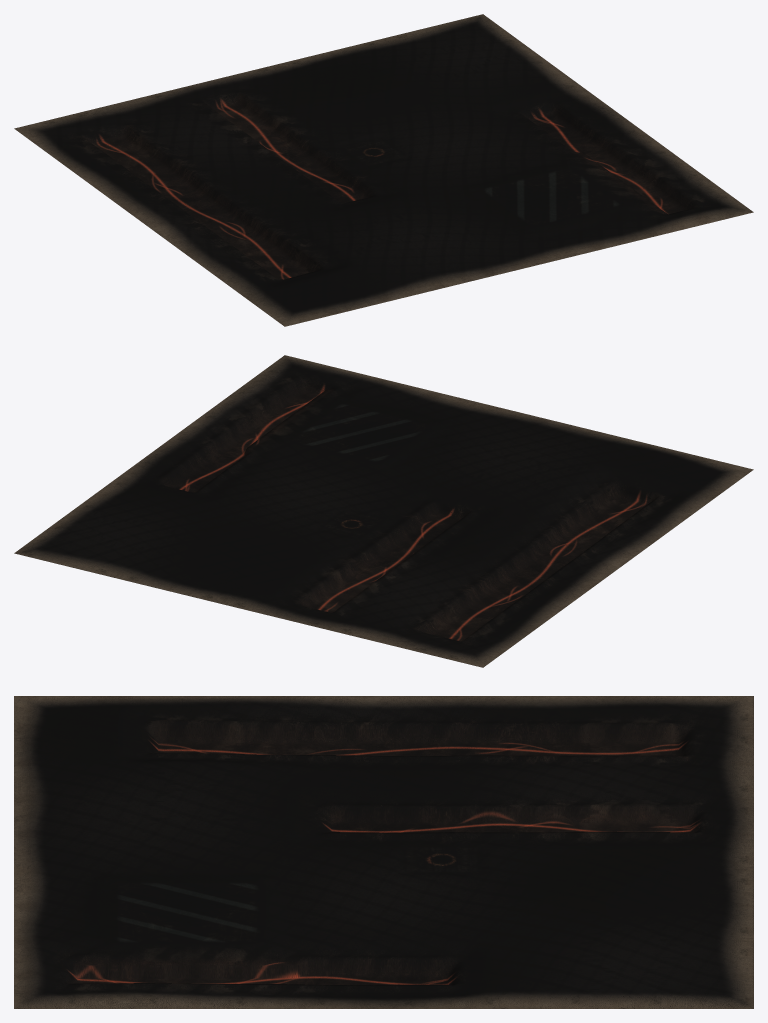
File: ember-shore-terrain.glb
3 renders of one model, top to bottom at view 1: azimuth 30°, elevation 25°; view 2: azimuth 150°, elevation 25°; view 3: azimuth 270°, elevation 25°, orthographic. The views are drawn at different scales.
Parts seen in each view (by area): view 1: EmberShoreTerrain; view 2: EmberShoreTerrain; view 3: EmberShoreTerrain.
Boxes of the visible parts, x1,y1,x2,y2 form: EmberShoreTerrain: (14,14,753,326); EmberShoreTerrain: (14,355,753,667); EmberShoreTerrain: (14,696,753,1008).
Bounding box in the file's own units: 128 × 4.26 × 128.
Materials: 1 (1 with a texture image).
